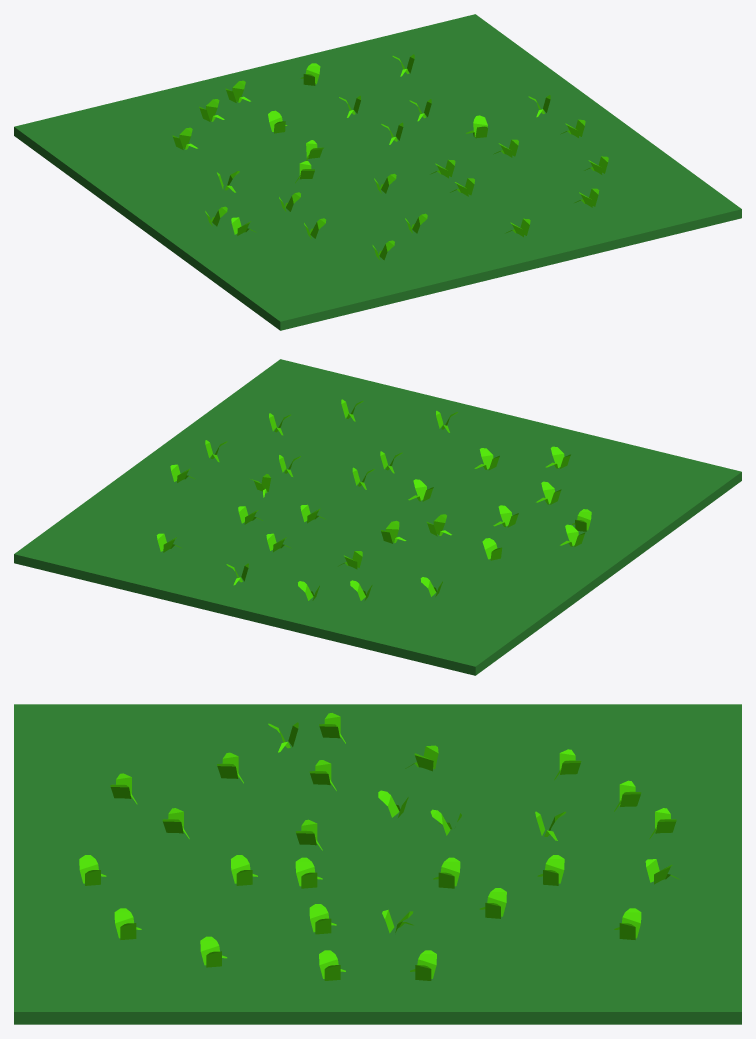
The model's file is green.fbx.
3 renders of one model, top to bottom at view 1: azimuth 30°, elevation 25°; view 2: azimuth 150°, elevation 25°; view 3: azimuth 270°, elevation 25°, orthographic. The views are drawn at different scales.
Parts seen in each view (by area): view 1: Cube, Plane; view 2: Cube, Plane; view 3: Cube, Plane.
Boxes of the visible parts, x1,y1,x2,y2 form: Cube: [14, 14, 741, 330]; Plane: [172, 54, 608, 260]; Cube: [14, 359, 741, 675]; Plane: [156, 399, 591, 600]; Cube: [14, 704, 741, 1024]; Plane: [79, 713, 679, 980].
Size of the model in its own units: 2000 by 105 by 2000.
